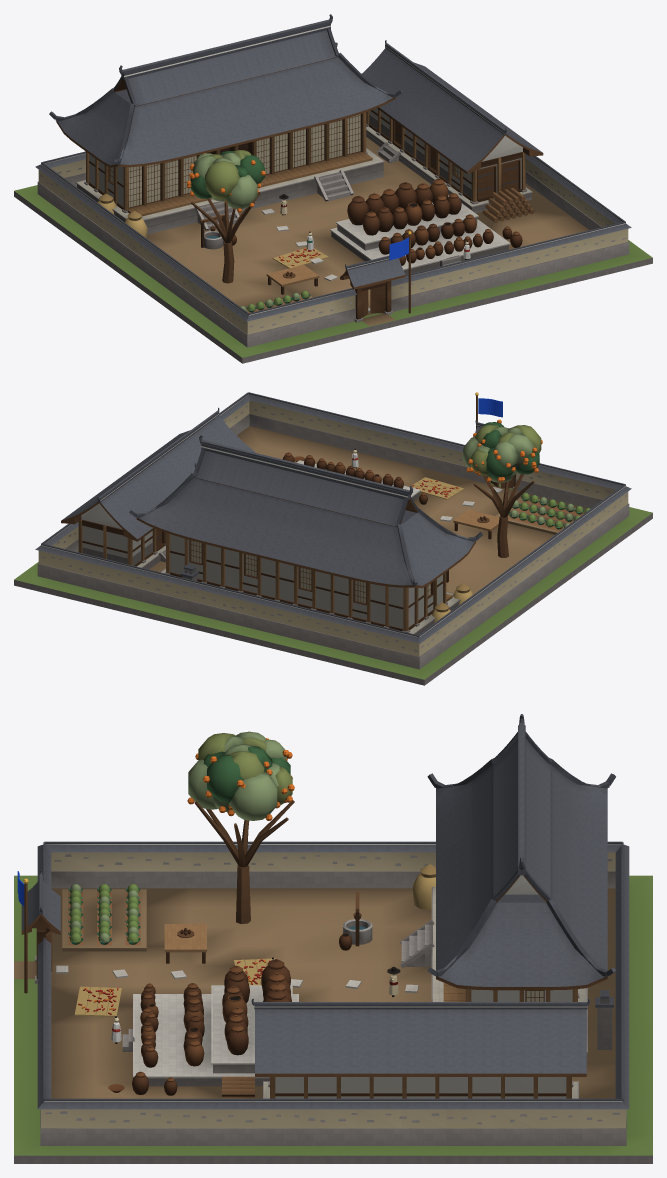
File: lm_ambaravlu.glb
3 renders of one model, top to bottom at view 1: azimuth 30°, elevation 25°; view 2: azimuth 150°, elevation 25°; view 3: azimuth 270°, elevation 25°, orthographic. The views are drawn at different scales.
Parts seen in each view (by area): view 1: lm_ambaravlu; view 2: lm_ambaravlu; view 3: lm_ambaravlu.
Boxes of the visible parts, x1,y1,x2,y2 form: lm_ambaravlu: [14, 14, 652, 363]; lm_ambaravlu: [14, 392, 652, 685]; lm_ambaravlu: [14, 714, 652, 1163].
Bounding box in the file's own units: 2.2 × 0.7711 × 2.12.
Materials: 1 (1 with a texture image).
